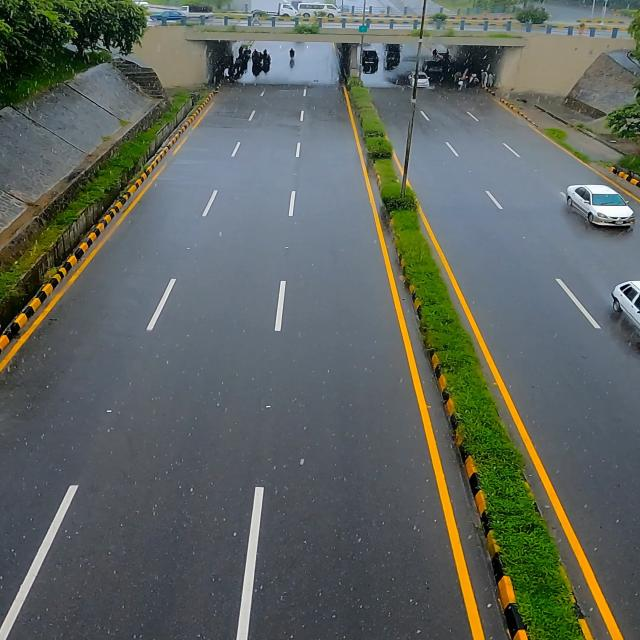Car: (563, 180, 638, 237)
